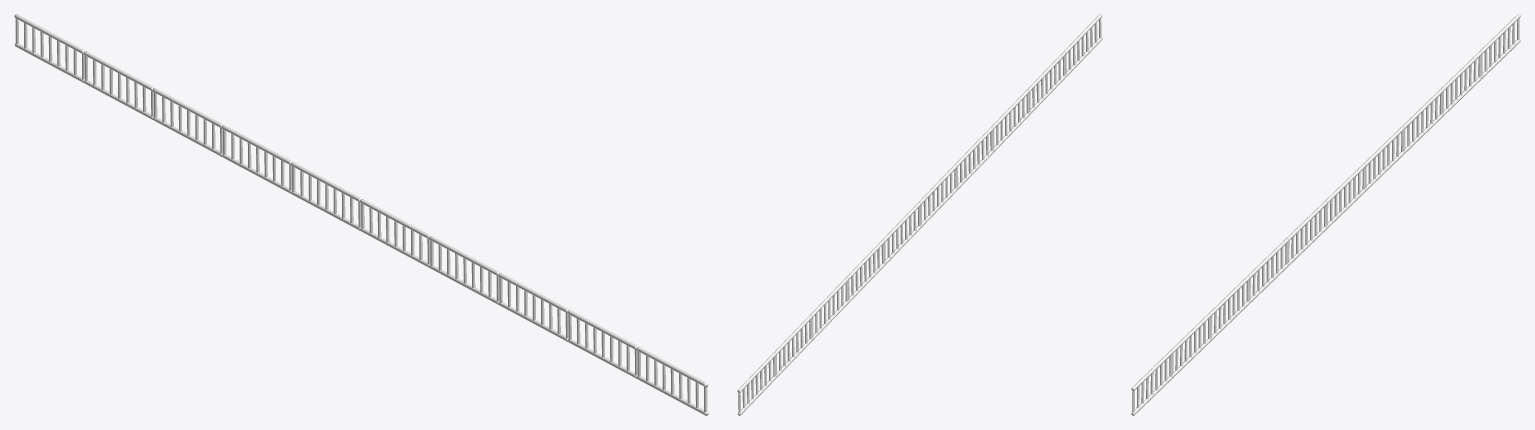
The model's file is gym_road_railing.fbx.
The picture shows the model from 3 angles, left to right: view 1: azimuth 30°, elevation 25°; view 2: azimuth 150°, elevation 25°; view 3: azimuth 330°, elevation 25°; orthographic projection. The views are drawn at different scales.
Parts seen in each view (by area): view 1: railings_276.004; view 2: railings_276.004; view 3: railings_276.004.
Part boxes in pixels (x1=…): railings_276.004: x1=14, y1=14, x2=708, y2=415; railings_276.004: x1=737, y1=14, x2=1102, y2=415; railings_276.004: x1=1131, y1=14, x2=1520, y2=415.
Size of the model in its own units: 223 by 80.88 by 1726.
1 material, 1 textured.
